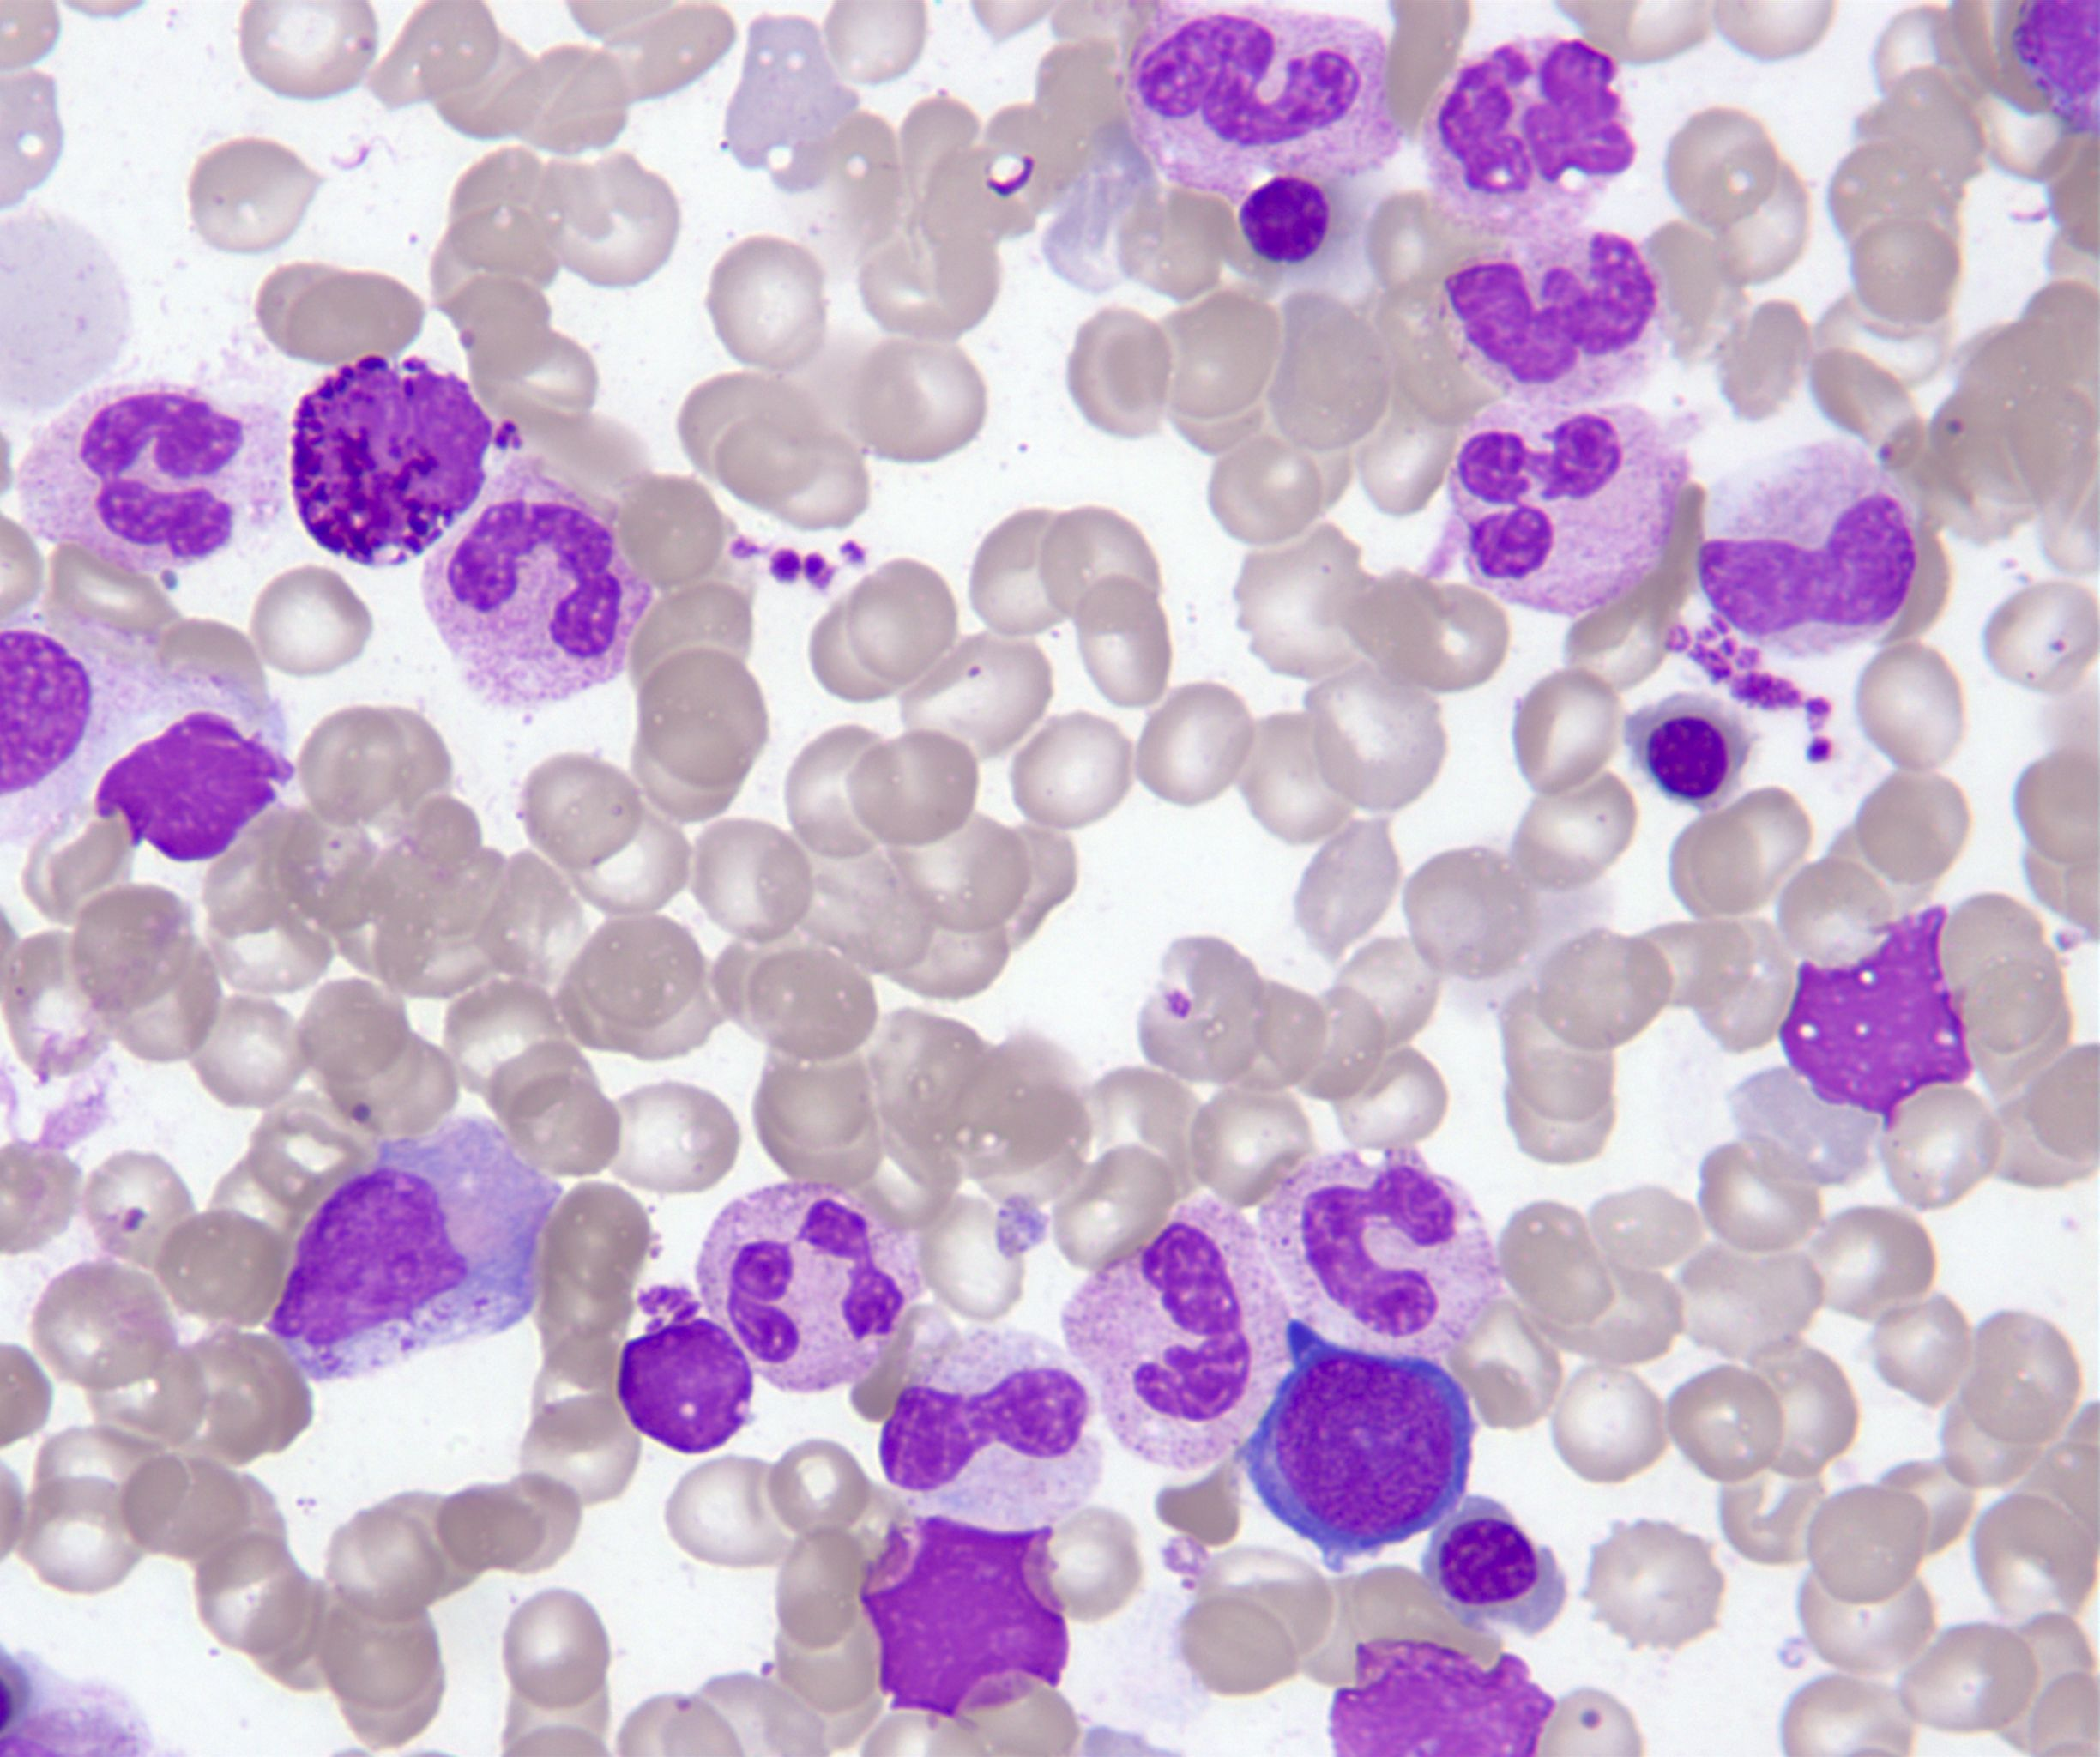21: (1242, 1347, 1484, 1567)
23: (1416, 1485, 1577, 1645)
24: (1615, 680, 1769, 817), (1233, 171, 1340, 269)
3: (258, 1108, 576, 1392)
32: (87, 700, 309, 869), (607, 1312, 760, 1460)
5: (419, 438, 665, 721), (1115, 0, 1408, 204), (1254, 1132, 1512, 1357), (872, 1321, 1111, 1544), (1695, 434, 1926, 663), (1434, 223, 1680, 405)
6: (1059, 1183, 1298, 1485), (9, 368, 300, 578), (1441, 396, 1697, 625), (689, 1172, 931, 1405), (1416, 30, 1645, 229)
B4: (286, 344, 501, 572)
